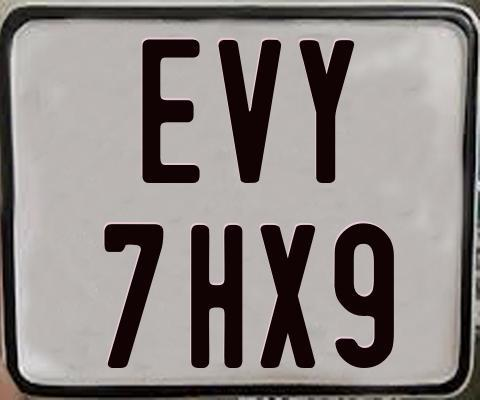7: (101, 224, 164, 373)
9: (332, 223, 396, 374)
E: (139, 36, 197, 184)
H: (190, 223, 242, 368)
V: (215, 37, 284, 184)
X: (259, 223, 317, 371)
Y: (298, 38, 354, 186)
